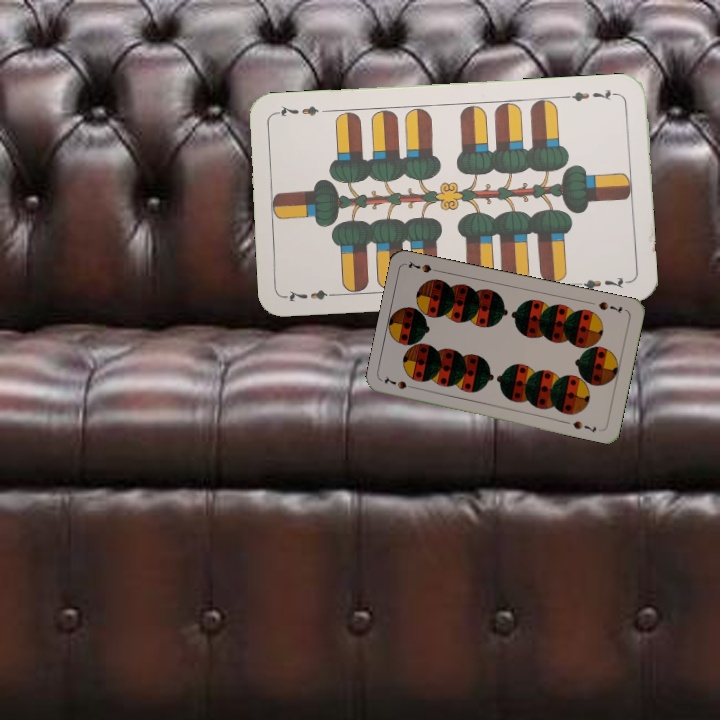E7: (562, 85, 621, 104), (283, 286, 342, 305)
S7: (380, 373, 420, 392), (594, 298, 625, 316)
